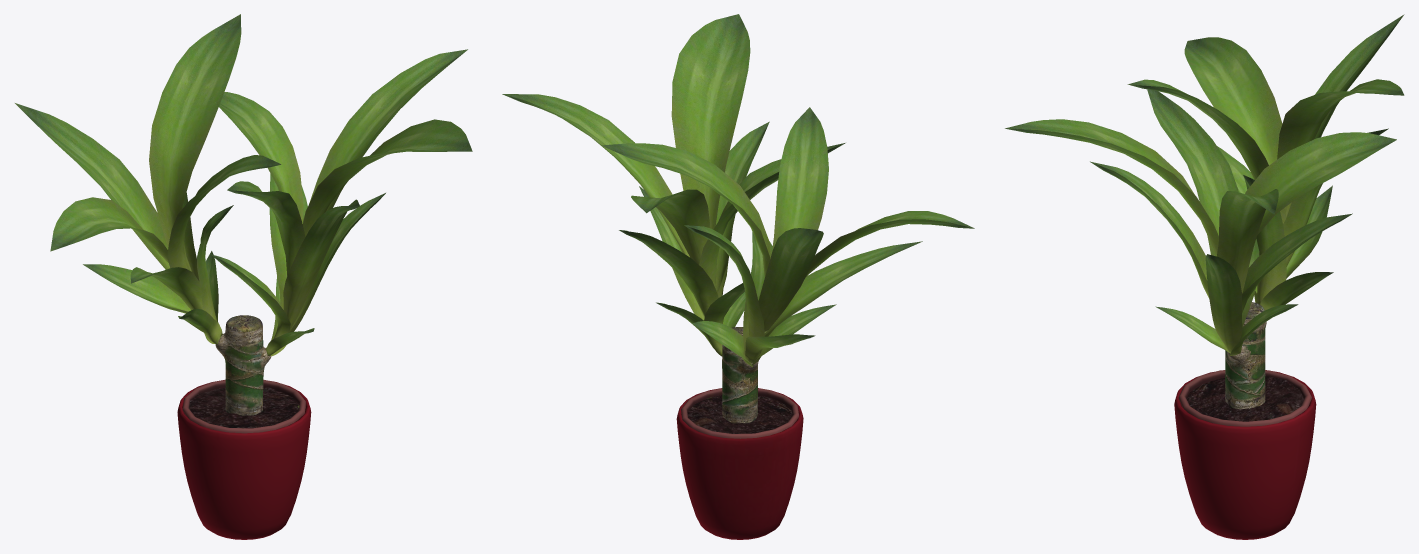
File: indoor_plant_02.obj
The picture shows the model from 3 angles, left to right: view 1: azimuth 30°, elevation 25°; view 2: azimuth 150°, elevation 25°; view 3: azimuth 270°, elevation 25°; orthographic projection. The views are drawn at different scales.
Parts seen in each view (by area): view 1: indoor_plant_02_Mesh; view 2: indoor_plant_02_Mesh; view 3: indoor_plant_02_Mesh.
Boxes of the visible parts, <box> form: indoor_plant_02_Mesh: <box>15,14,472,539</box>; indoor_plant_02_Mesh: <box>502,14,974,539</box>; indoor_plant_02_Mesh: <box>1005,14,1404,539</box>.
Size of the model in its own units: 0.0682 by 0.0622 by 0.0486.
1 material, 1 textured.
